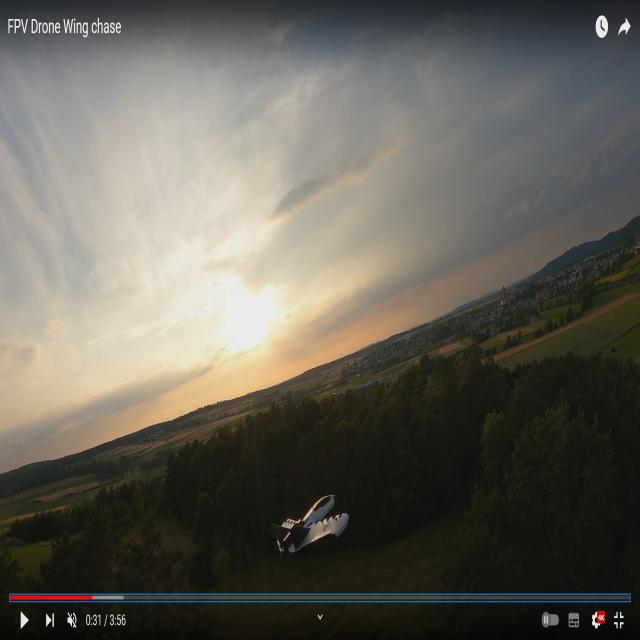iha: (311, 493, 315, 542)
